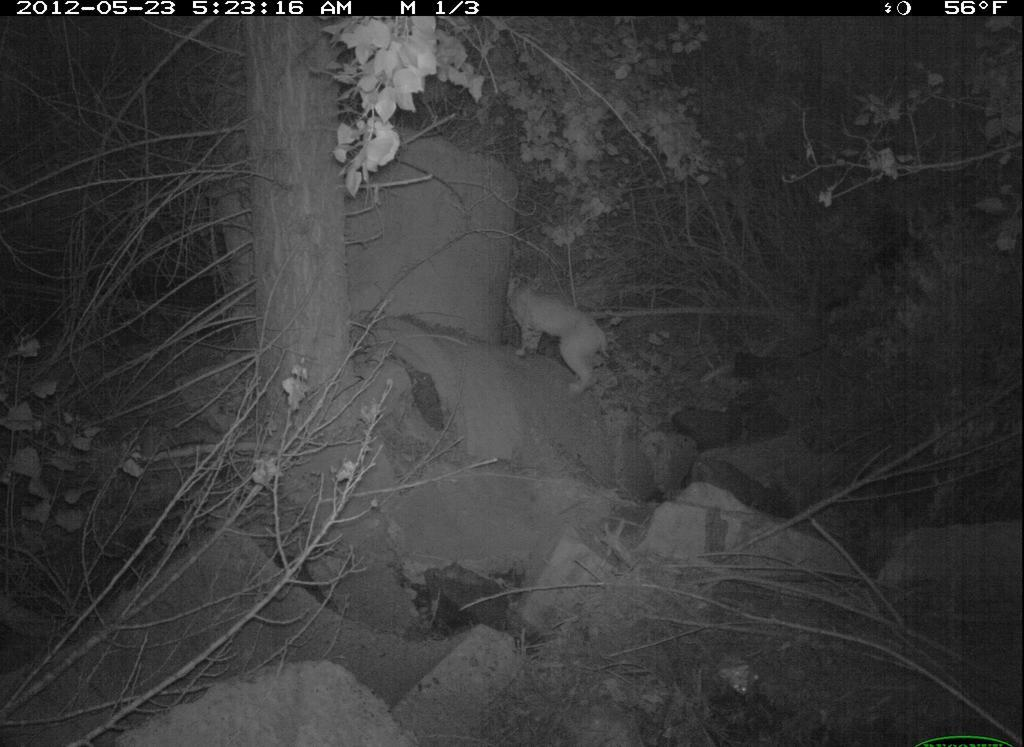bobcat: (502, 277, 623, 402)
